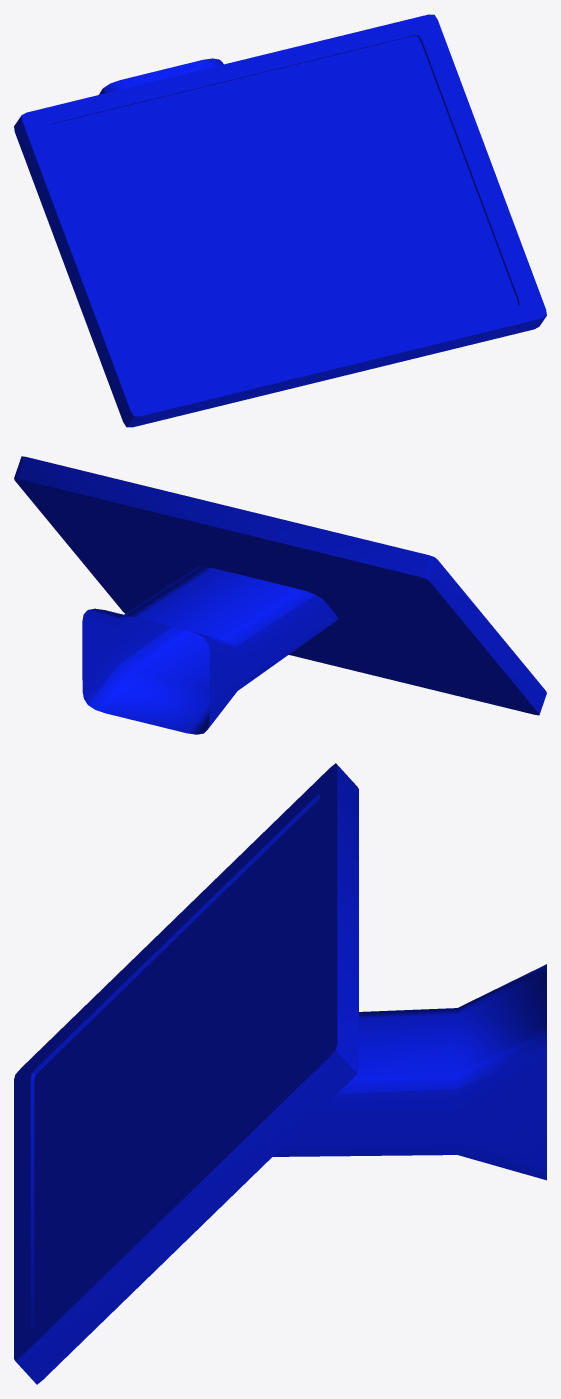
The model's file is Wifi_Low.fbx.
3 renders of one model, top to bottom at view 1: azimuth 30°, elevation 25°; view 2: azimuth 150°, elevation 25°; view 3: azimuth 270°, elevation 25°, orthographic. The views are drawn at different scales.
Parts seen in each view (by area): view 1: Screen; view 2: Screen; view 3: Screen.
Boxes of the visible parts, x1=… form: Screen: x1=14, y1=14, x2=546, y2=427; Screen: x1=14, y1=456, x2=546, y2=734; Screen: x1=14, y1=763, x2=546, y2=1384.
Bounding box in the file's own units: 176 × 96.1 × 137.
